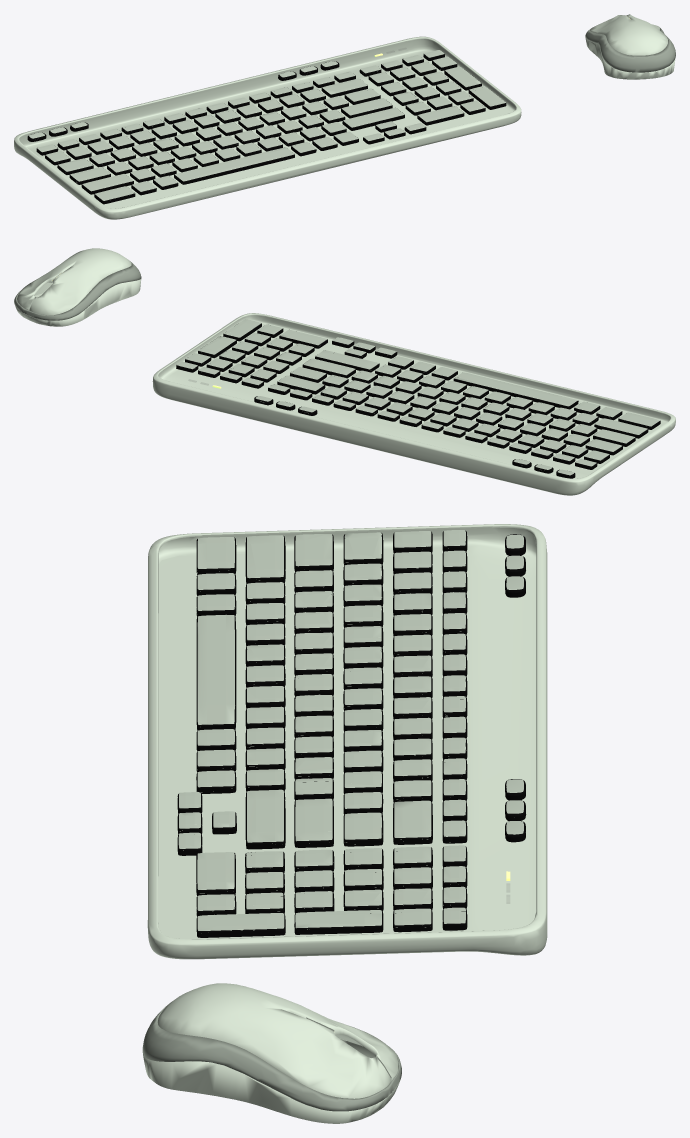
The model's file is keyboard4-small.glb.
3 views of the same model, one above another, from view 1: azimuth 30°, elevation 25°; view 2: azimuth 150°, elevation 25°; view 3: azimuth 270°, elevation 25° (orthographic). The views are drawn at different scales.
Visible parts, largest first — view 1: Object_7; view 2: Object_7; view 3: Object_7.
Part boxes in pixels (x1,y1,x2,y2): Object_7: (14, 14, 675, 219); Object_7: (14, 248, 675, 495); Object_7: (142, 524, 547, 1123).
Bounding box in the file's own units: 11.15 × 0.8295 × 3.26.
3 materials, 3 textured.
